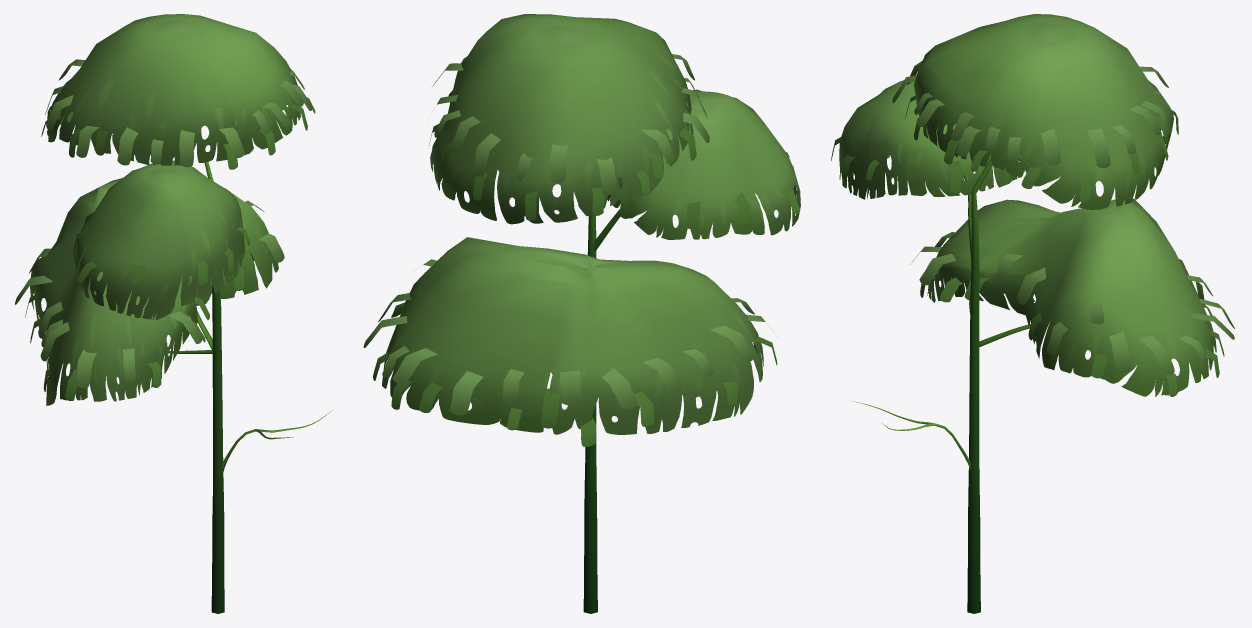
File: Tree3.fbx
3 renders of one model, left to right at view 1: azimuth 30°, elevation 25°; view 2: azimuth 150°, elevation 25°; view 3: azimuth 270°, elevation 25°, orthographic. The views are drawn at different scales.
Visible parts, largest first — view 1: Leaves_Base, Leaf_up, Trunk3, Leaf_down; view 2: Leaves_Base, Leaf_up, Leaf_down, Trunk3; view 3: Leaves_Base, Leaf_up, Trunk3, Leaf_down.
Boxes of the visible parts, <box> form: Leaves_Base: <box>30,14,301,405</box>; Leaf_up: <box>15,59,312,388</box>; Trunk3: <box>168,162,333,613</box>; Leaf_down: <box>25,97,315,400</box>; Leaves_Base: <box>382,14,800,434</box>; Leaf_up: <box>363,54,777,415</box>; Leaf_down: <box>373,90,800,446</box>; Trunk3: <box>583,209,620,613</box>; Leaves_Base: <box>839,14,1216,396</box>; Leaf_up: <box>892,60,1234,374</box>; Trunk3: <box>850,158,1030,613</box>; Leaf_down: <box>831,95,1224,396</box>.
Bounding box in the file's own units: 440 × 818 × 522.
